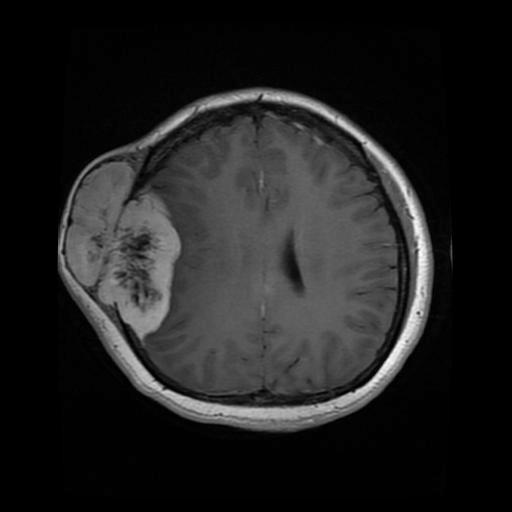Tumour-Meningioma: (64, 145, 194, 342)
